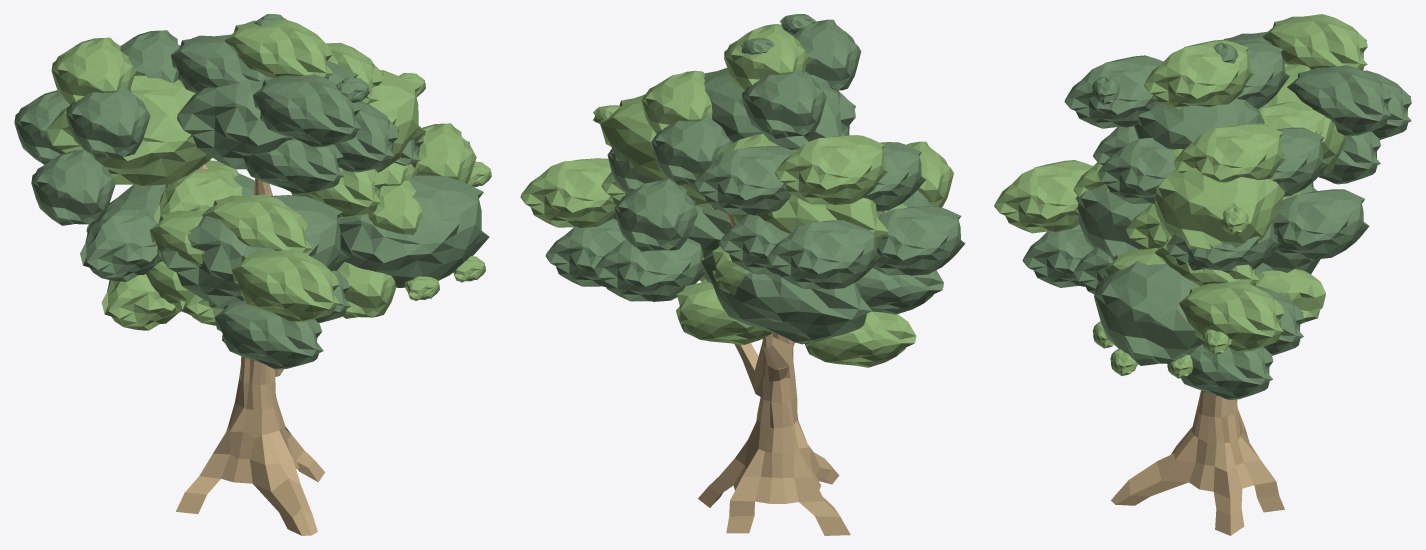
The model's file is LArgeTree.fbx.
The picture shows the model from 3 angles, left to right: view 1: azimuth 30°, elevation 25°; view 2: azimuth 150°, elevation 25°; view 3: azimuth 270°, elevation 25°; orthographic projection. The views are drawn at different scales.
Parts seen in each view (by area): view 1: Large_Tree_1; view 2: Large_Tree_1; view 3: Large_Tree_1.
Boxes of the visible parts, x1,y1,x2,y2 form: Large_Tree_1: (14, 14, 491, 535); Large_Tree_1: (520, 14, 965, 535); Large_Tree_1: (994, 14, 1411, 535).
Size of the model in its own units: 8958 by 9477 by 7734.
